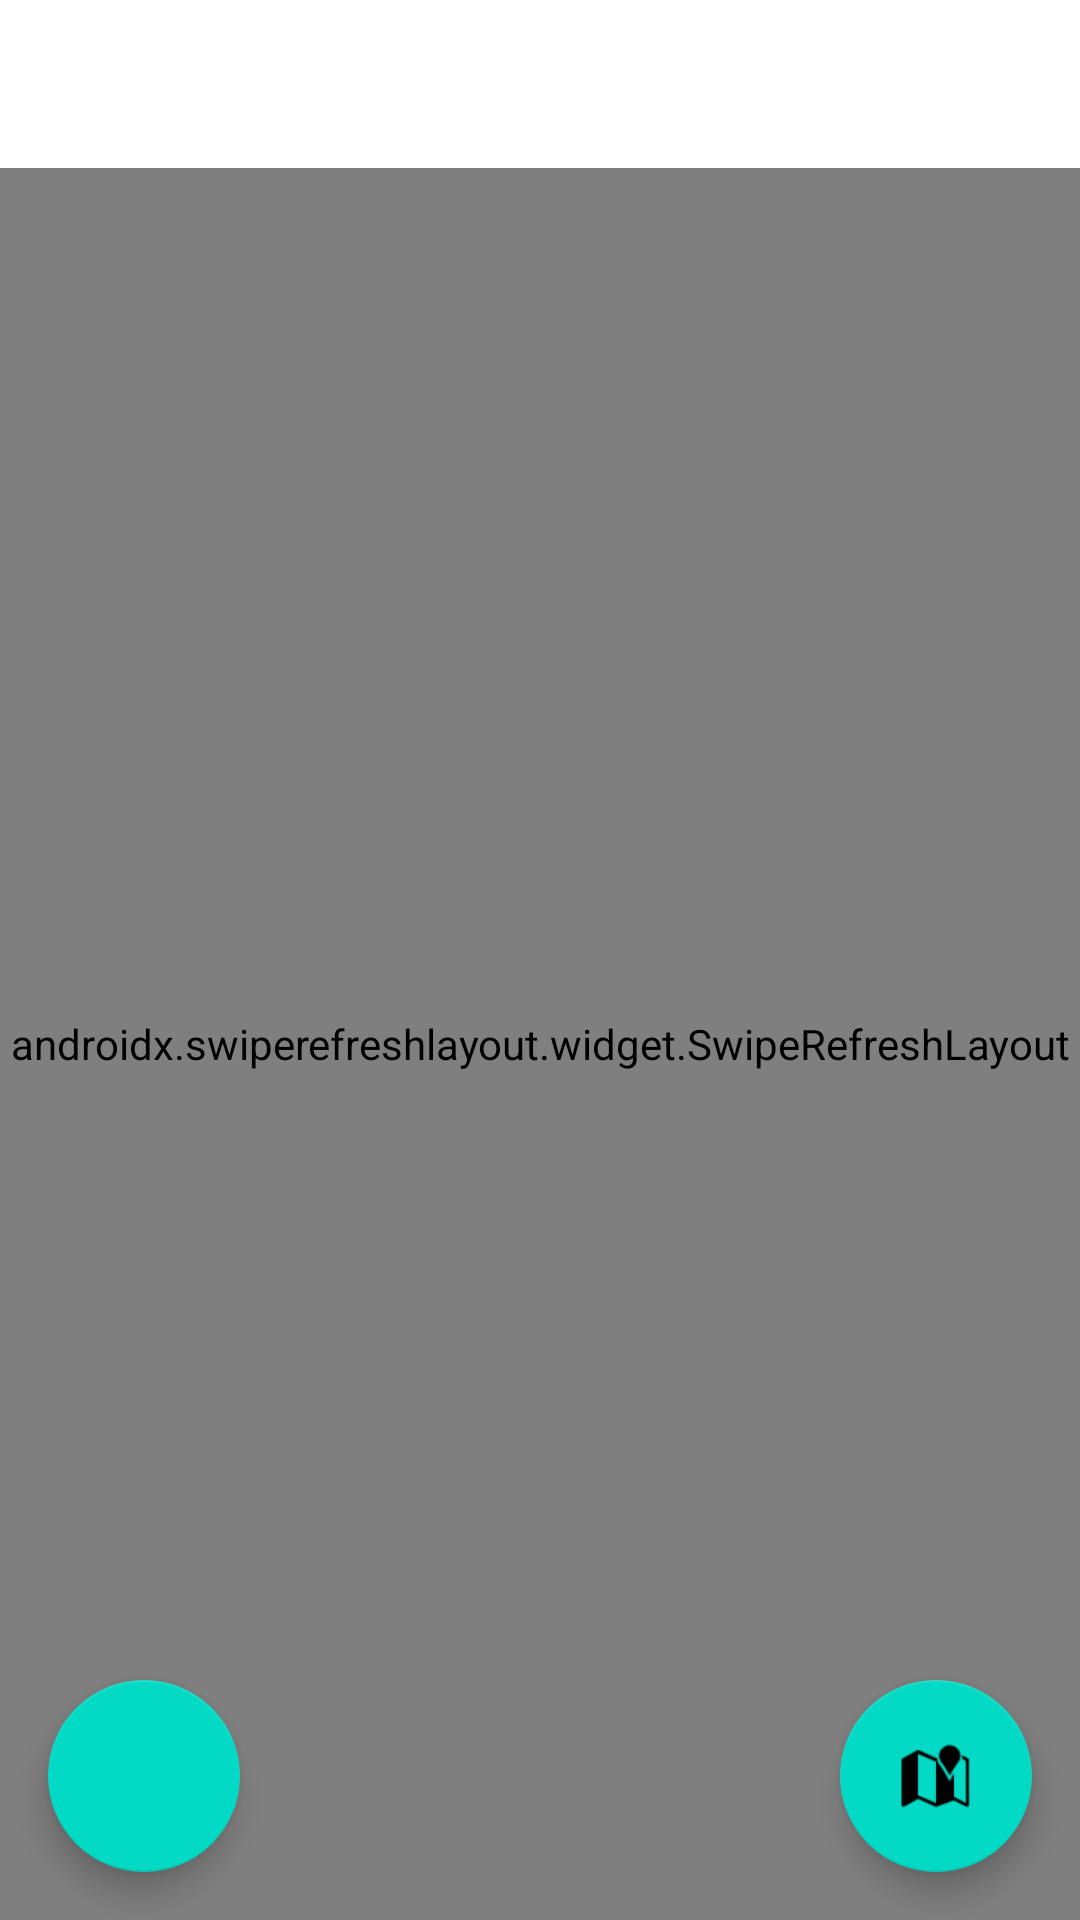

Icons on this 1080 x 1920 Android screen, each with the point to tap as [x,y]:
map: [936,1776]
